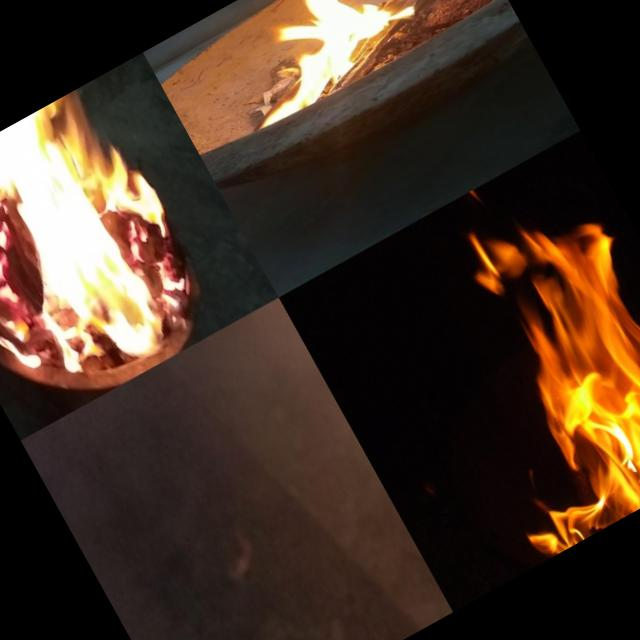fire: (367, 130, 640, 563), (0, 82, 220, 390), (199, 0, 491, 133), (0, 175, 69, 394)
